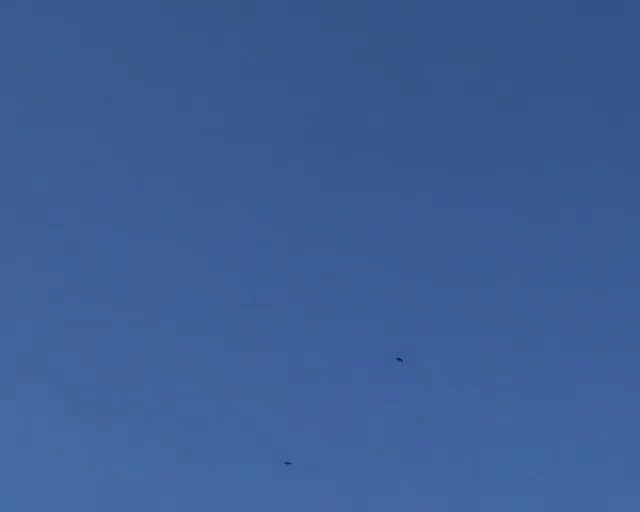BIRD: (395, 355, 404, 364)
